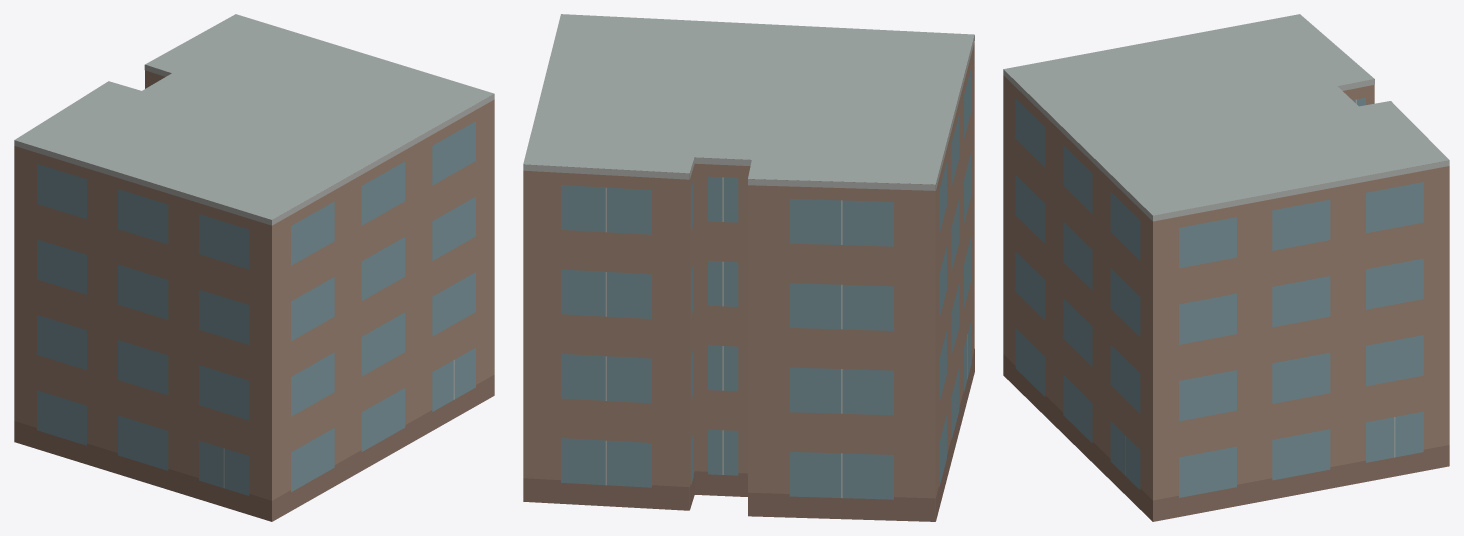
The model's file is survey-upis-32951388.glb.
3 renders of one model, left to right at view 1: azimuth 30°, elevation 25°; view 2: azimuth 150°, elevation 25°; view 3: azimuth 270°, elevation 25°, orthographic. The views are drawn at different scales.
Visible parts, largest first — view 1: survey-upis-32951388.tmp; view 2: survey-upis-32951388.tmp; view 3: survey-upis-32951388.tmp.
Boxes of the visible parts, x1=… form: survey-upis-32951388.tmp: x1=14, y1=14, x2=494, y2=521; survey-upis-32951388.tmp: x1=523, y1=14, x2=974, y2=521; survey-upis-32951388.tmp: x1=1003, y1=14, x2=1449, y2=521.
Bounding box in the file's own units: 18.39 × 13 × 17.19.
